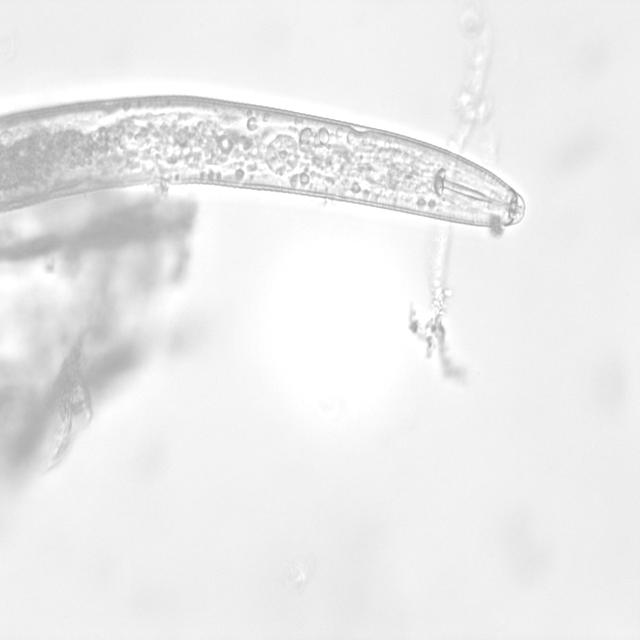Helicotylenchus: (0, 84, 530, 239)
